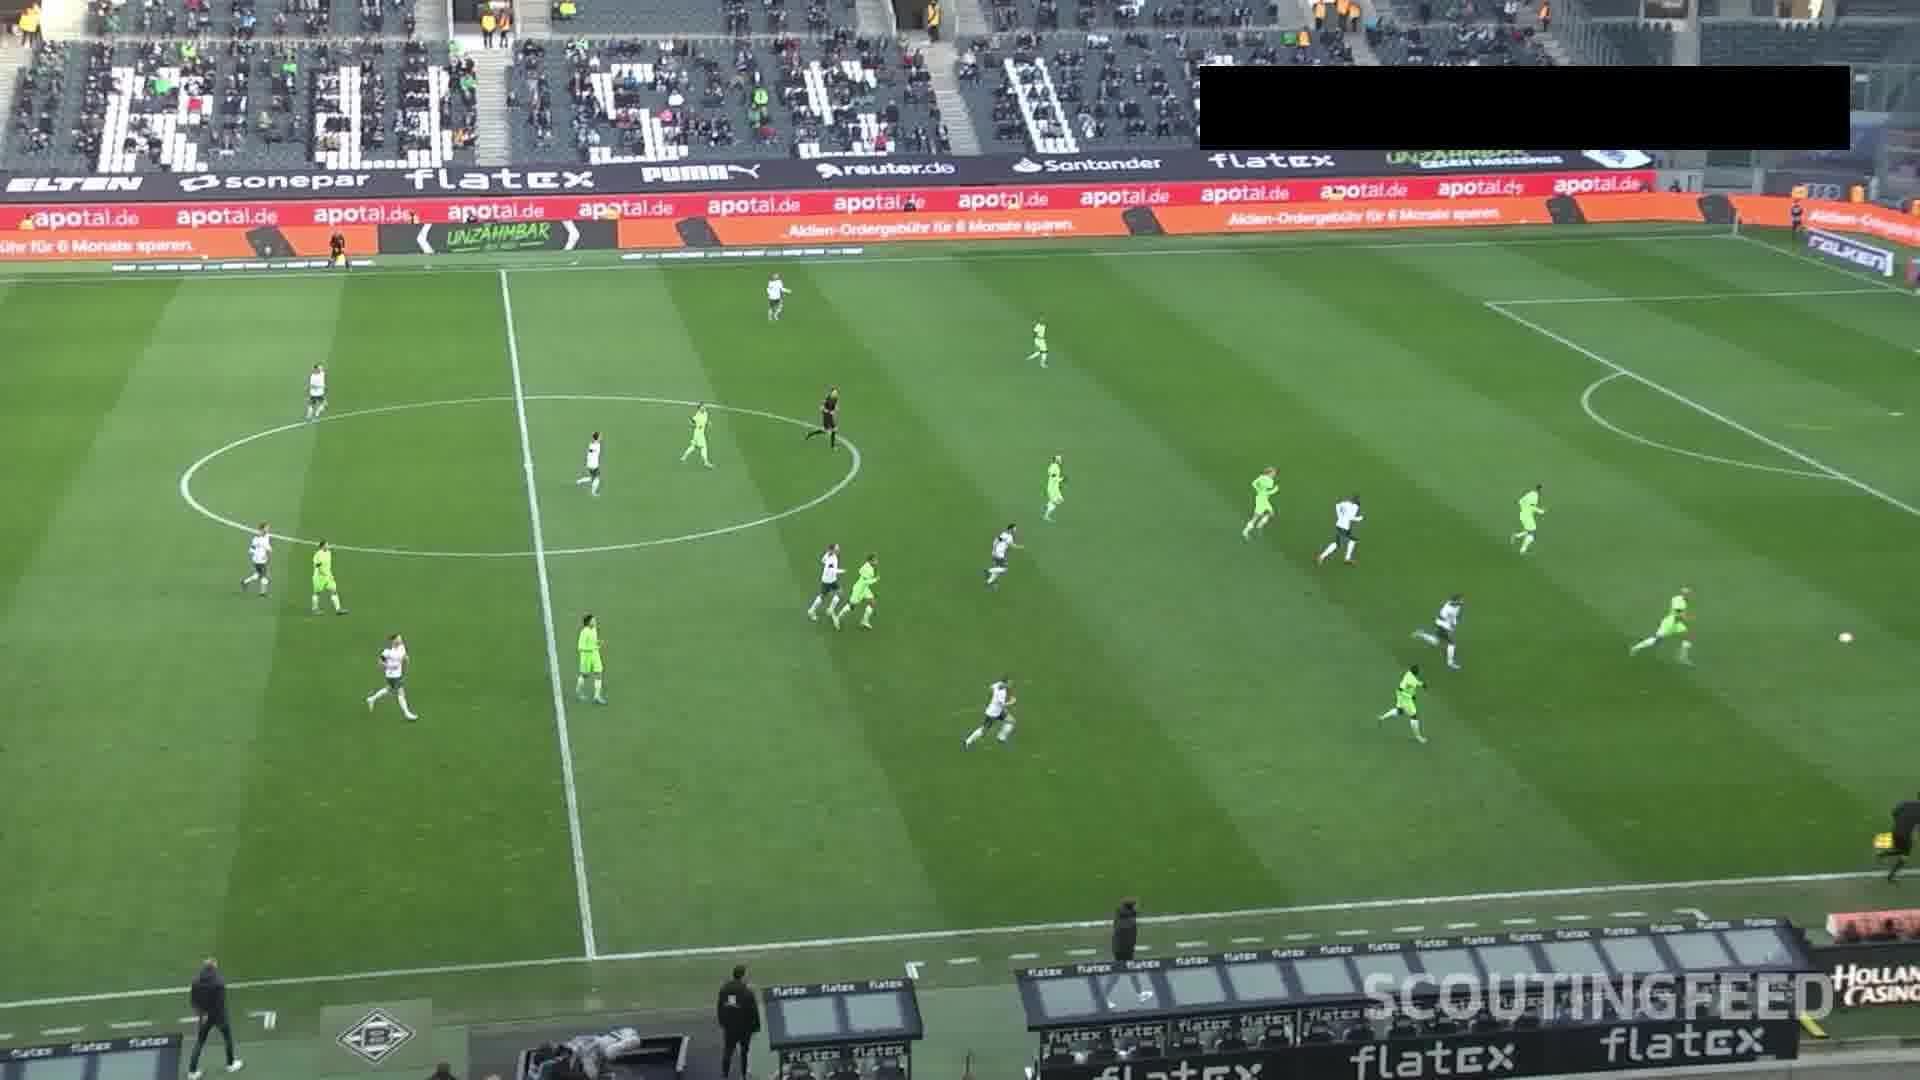football: (1838, 629, 1854, 647)
